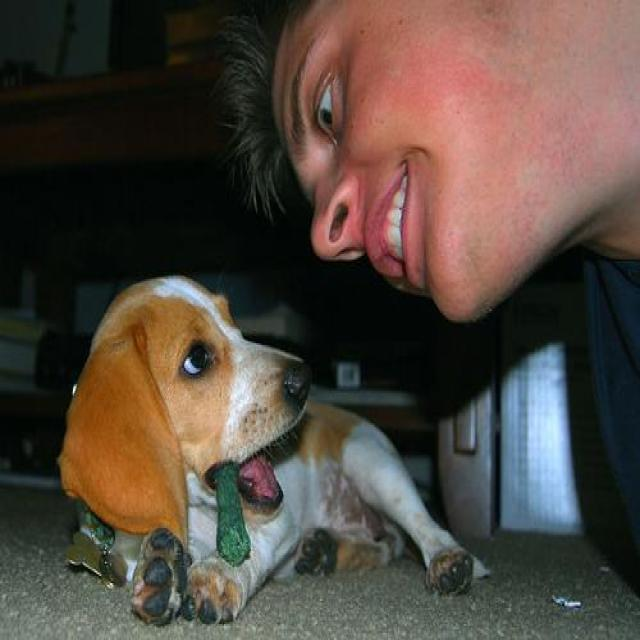beagle: (58, 279, 494, 624)
